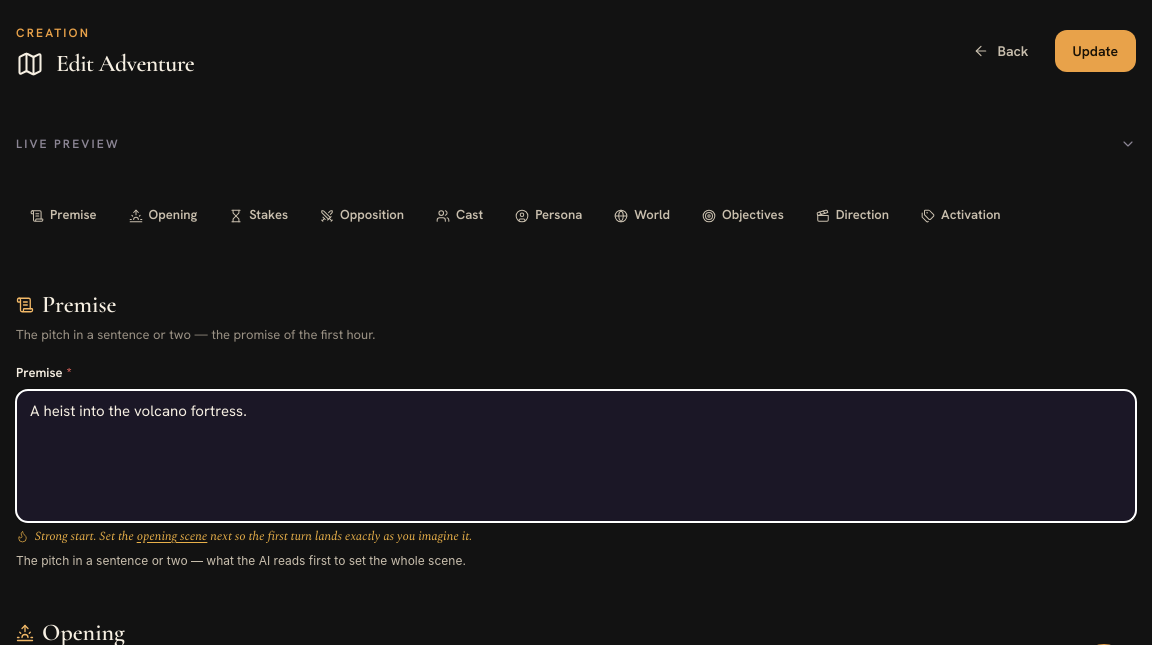
AdventureCreator voice write refusals (I-36) › shows the voice copy for a 422 voice_plan_locked and stays in the editor
Click the button "Update".
click(1095, 51)  # box x1=1054 y1=30 x2=1136 y2=72
(page scrolled)
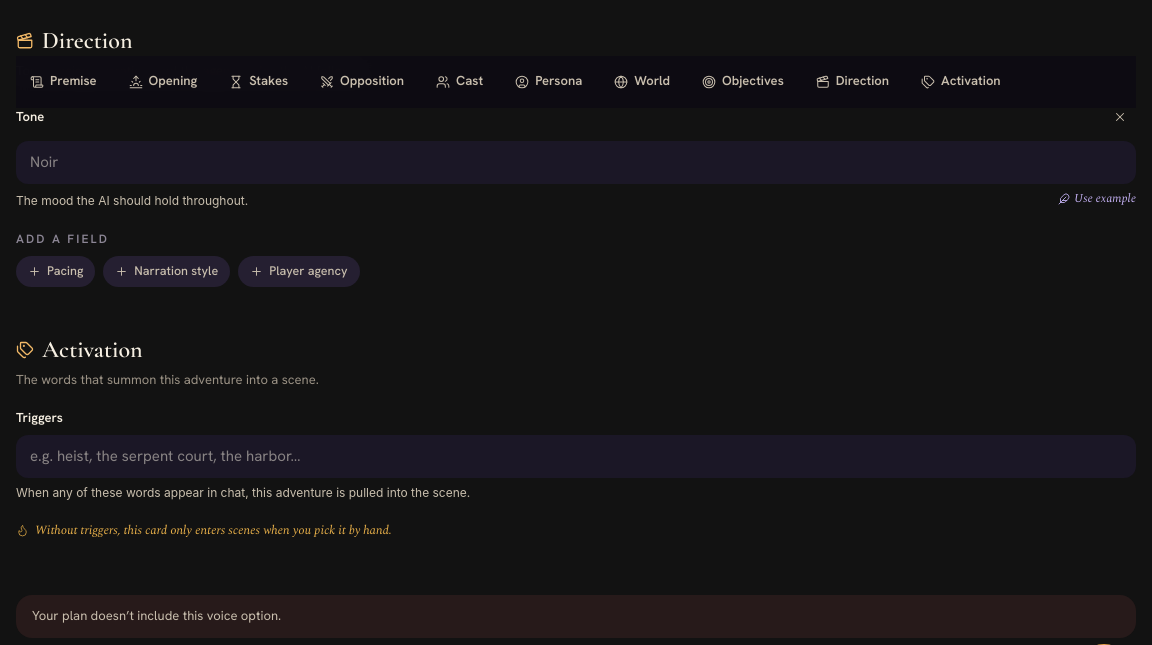
Expected: the text "Your plan doesn’t include this voice option." is shown, x1=32 y1=607 x2=281 y2=626
